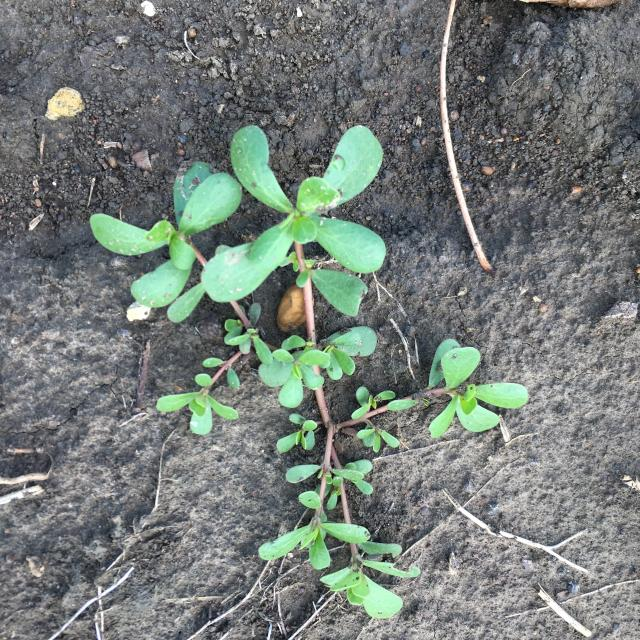Purslane: (90, 125, 528, 619)
